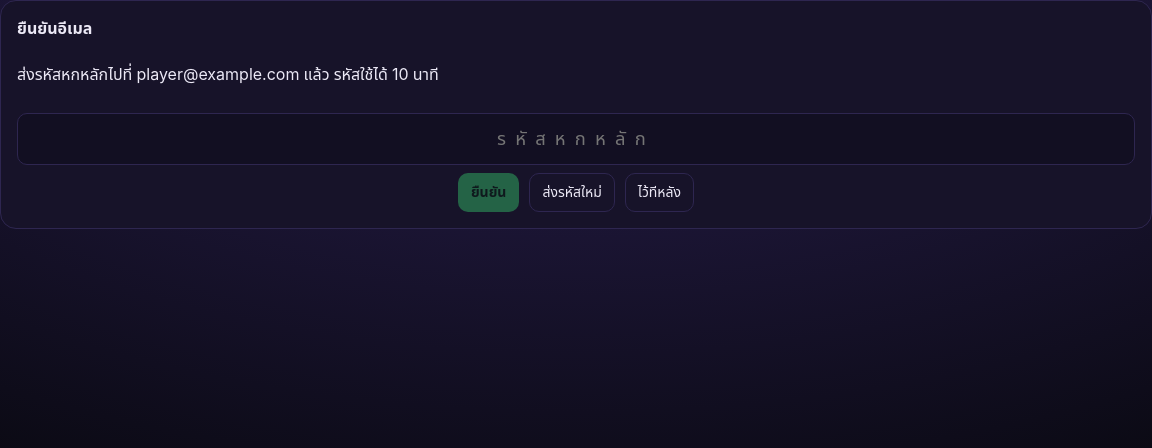
it: รหัสผิดขึ้นข้อความจากรหัสที่เซิร์ฟเวอร์ส่งมา แล้วยังกรอกใหม่ได้
Type "000000" into the field labelled "รหัสหกหลัก". click: (576, 139)
box: [17, 113, 1135, 165]
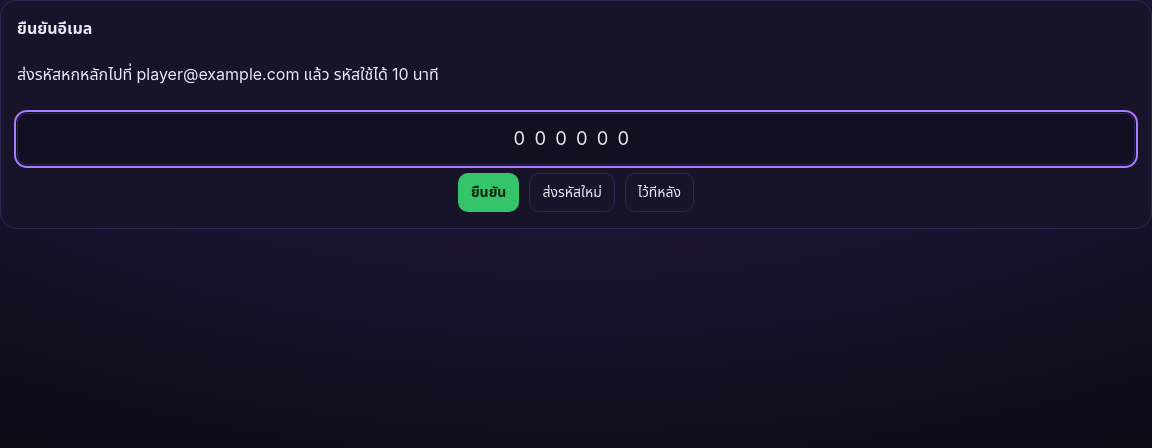
Click the button "ยืนยัน". click: (489, 192)
box: [458, 173, 519, 212]
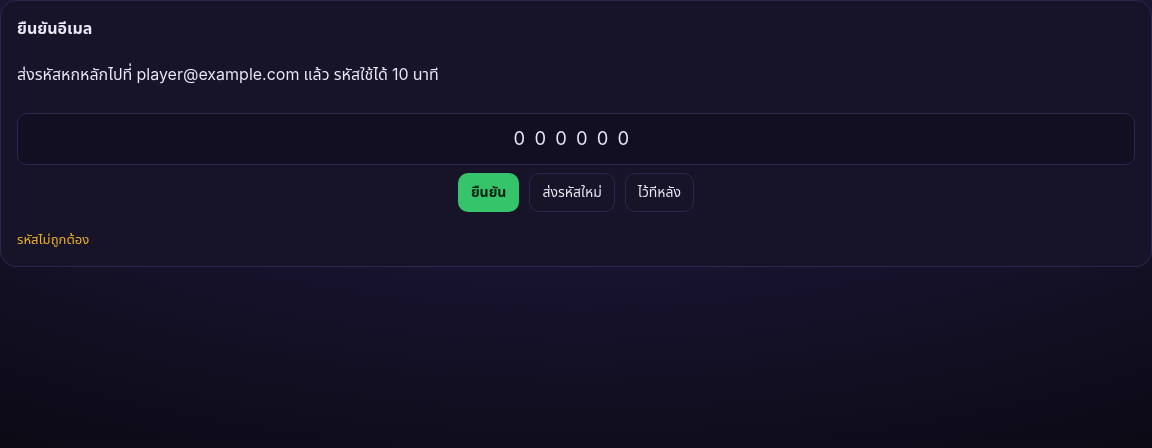
Check: the text "รหัสไม่ถูกต้อง" is shown, box [17, 230, 89, 250]
